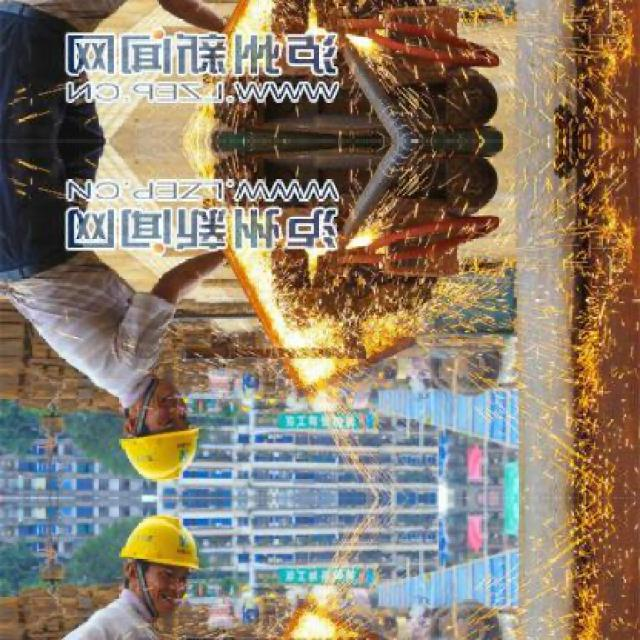con casco: (103, 383, 211, 497)
